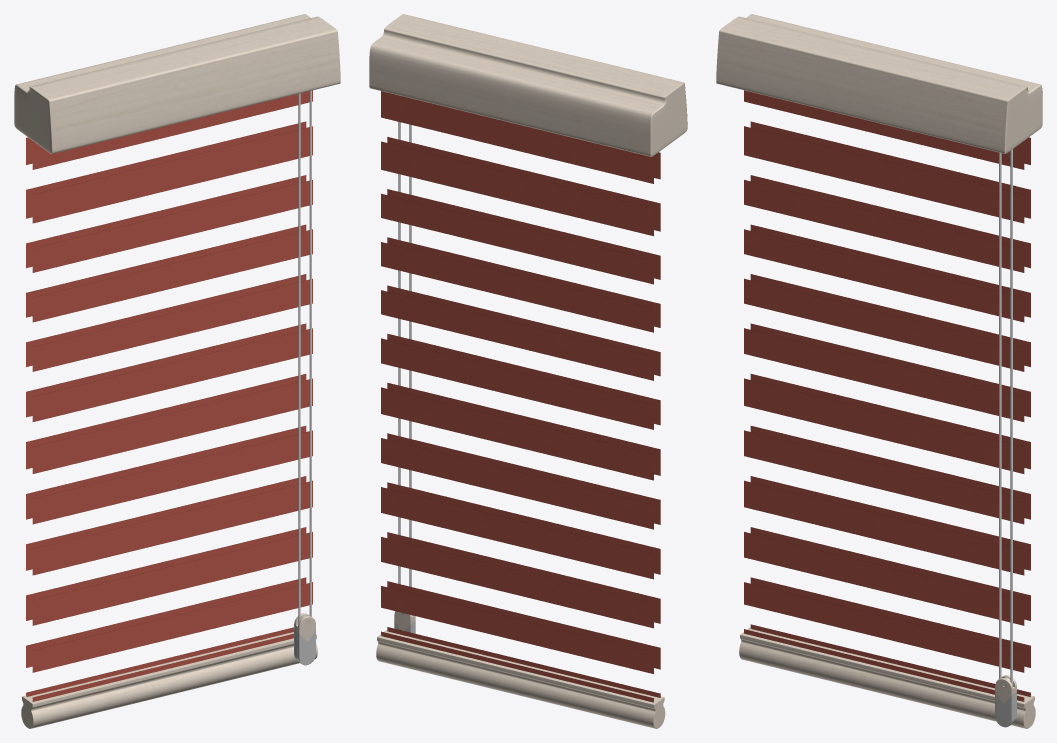
The model's file is curtain_02_04.001.fbx.
The picture shows the model from 3 angles, left to right: view 1: azimuth 30°, elevation 25°; view 2: azimuth 150°, elevation 25°; view 3: azimuth 330°, elevation 25°; orthographic projection. The views are drawn at different scales.
Parts seen in each view (by area): view 1: curtain_02_04.001; view 2: curtain_02_04.001; view 3: curtain_02_04.001.
Boxes of the visible parts, x1,y1,x2,y2 form: curtain_02_04.001: (14,14,340,728); curtain_02_04.001: (369,14,687,728); curtain_02_04.001: (716,14,1042,728).
Size of the model in its own units: 51.11 by 109 by 11.73.
1 material, 1 textured.
